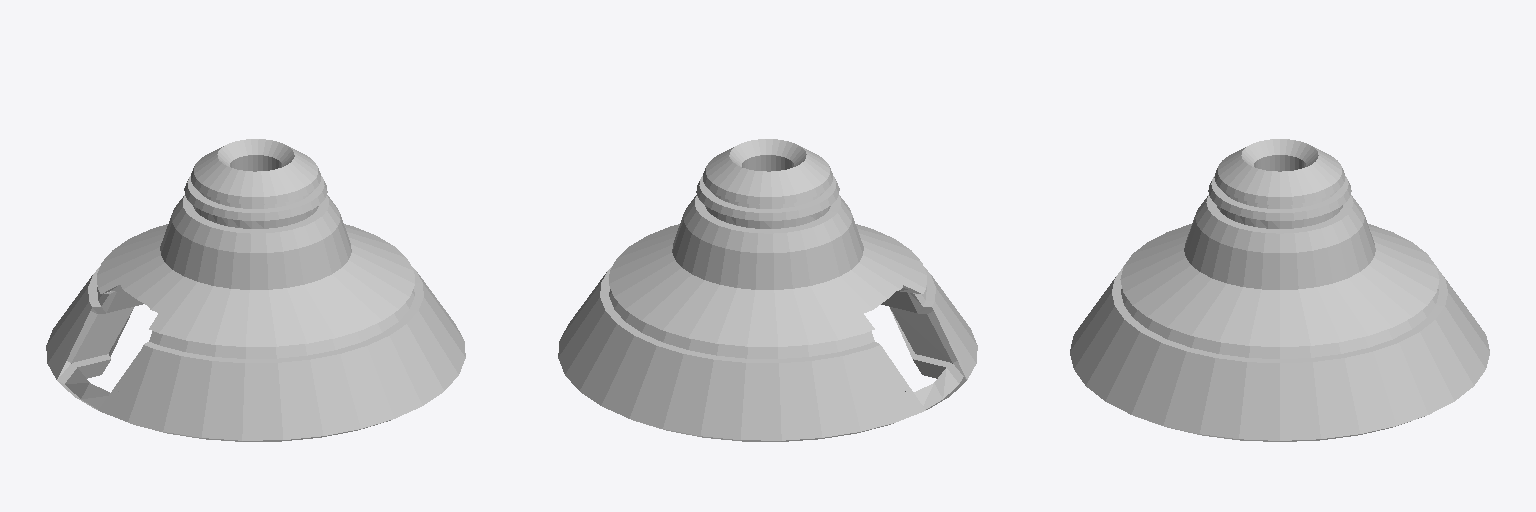
Rendered from canon_laser.obj.
3 renders of one model, left to right at view 1: azimuth 30°, elevation 25°; view 2: azimuth 150°, elevation 25°; view 3: azimuth 270°, elevation 25°, orthographic.
Visible parts, largest first — view 1: canon_laser; view 2: canon_laser; view 3: canon_laser.
Part boxes in pixels (x1,y1,x2,y2): canon_laser: (46, 139, 465, 441); canon_laser: (558, 139, 977, 441); canon_laser: (1070, 139, 1489, 441).
Bounding box in the file's own units: 13.69 × 7.24 × 13.69.